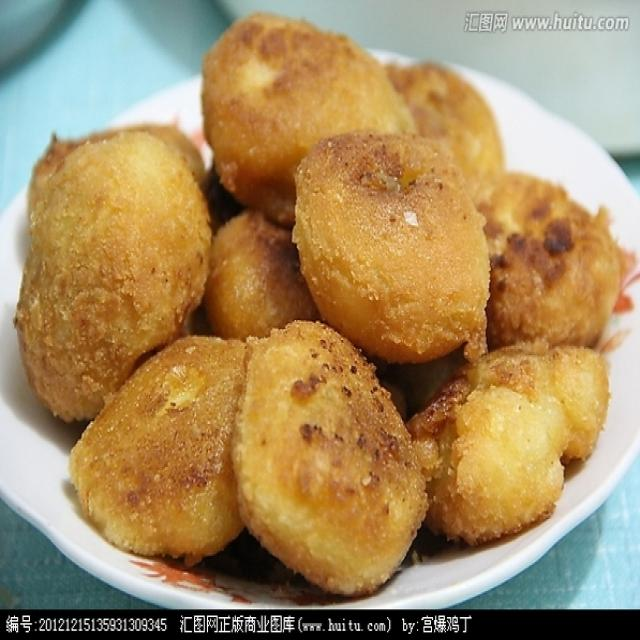炸货点心: (15, 18, 615, 594)
蛋糕甜品: (15, 18, 615, 594)
